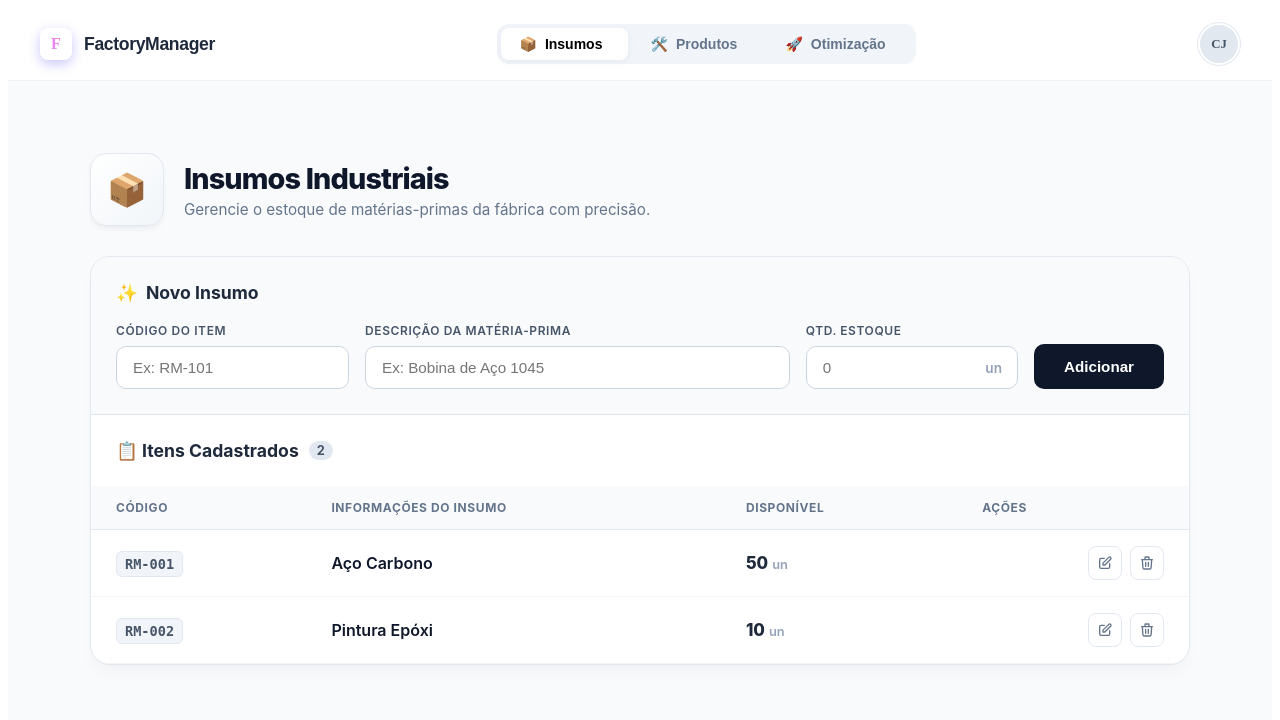
Test: Módulo de Insumos Industriais › Deve editar um insumo existente e verificar o scroll
Click the button with class "edit" in the row of "RM-001": coordinates (1105, 563) [1088,546,1122,580]
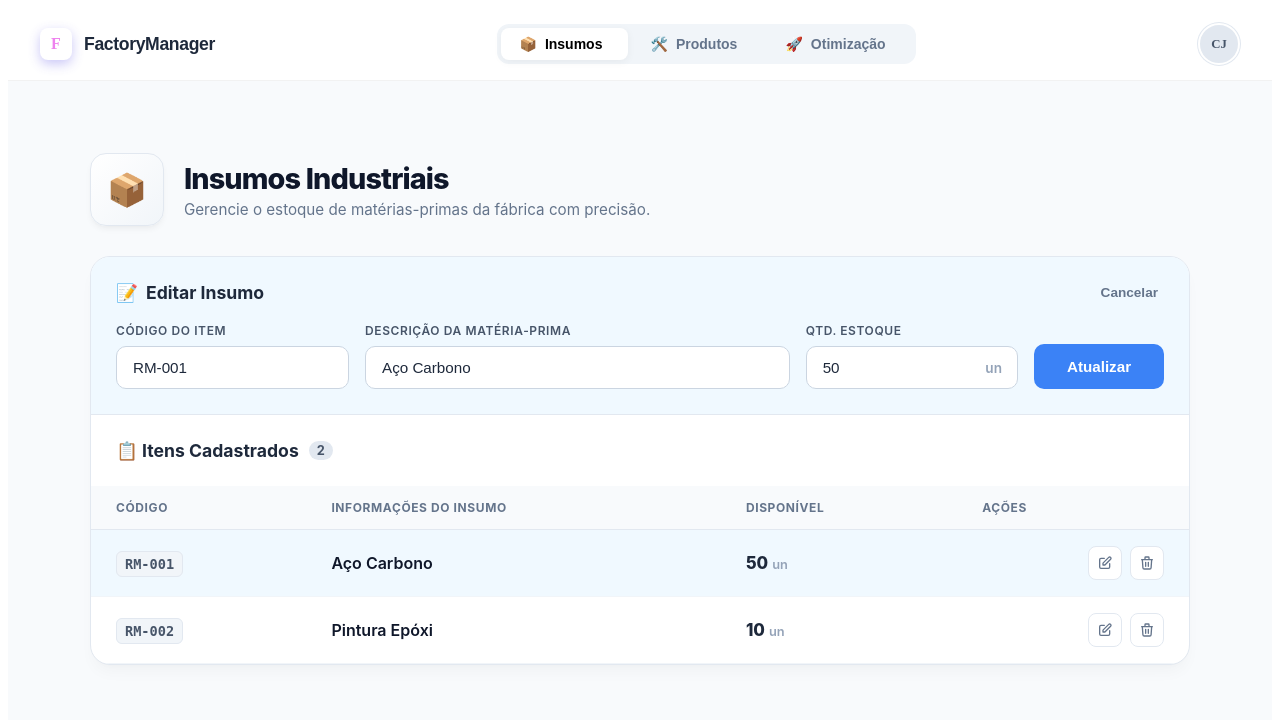
expect the heading with class "section-title" shows "Editar Insumo": met, box [146,282,264,303]
Replace the text in the field with test id "input-rm-name" with "Aço Carbono Editado": coordinates (578, 368) [365,346,790,389]
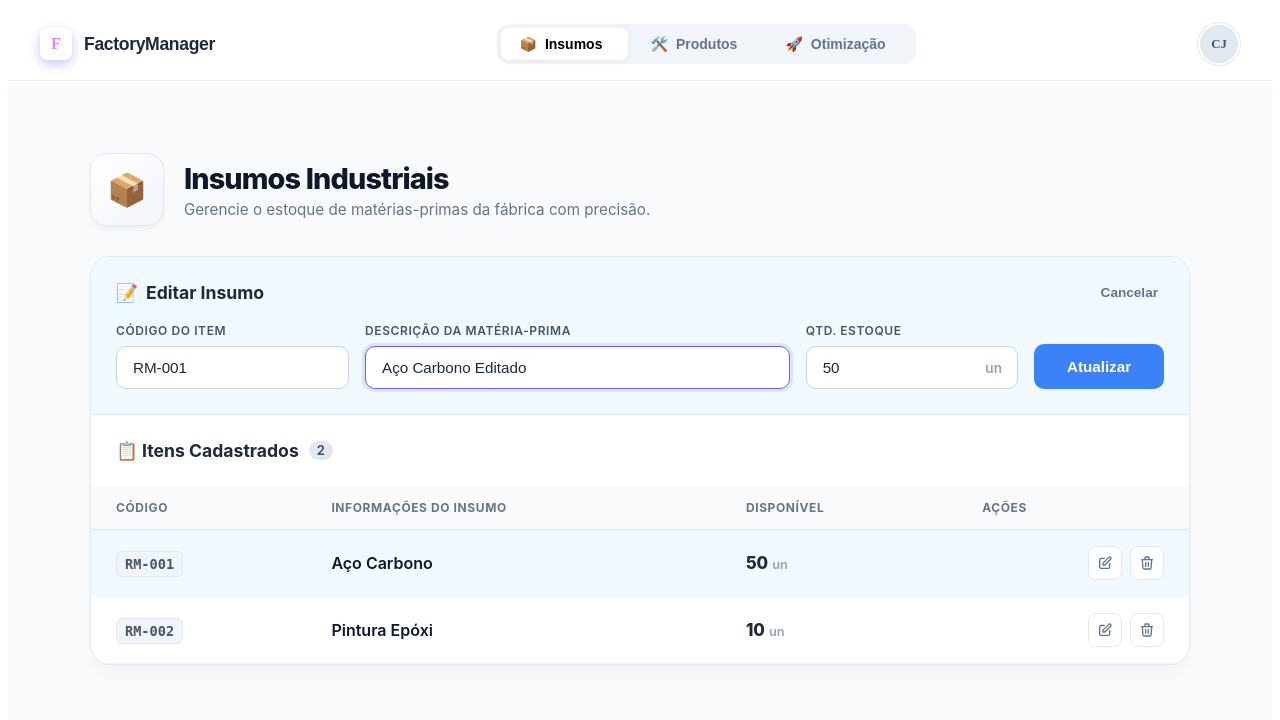
Click the button with test id "btn-rm-save": coordinates (1099, 367) [1034,344,1164,389]
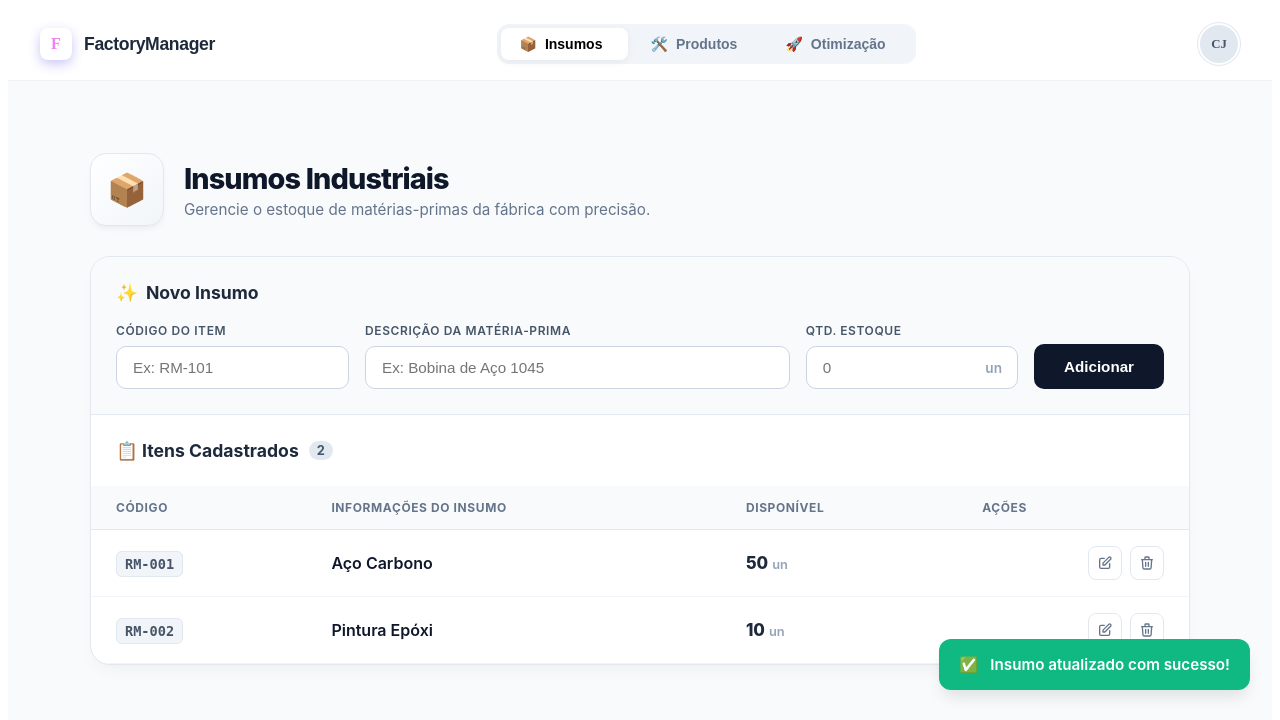
expect the text with class "toast-success" shows "atualizado": met, box [990,655,1230,674]
